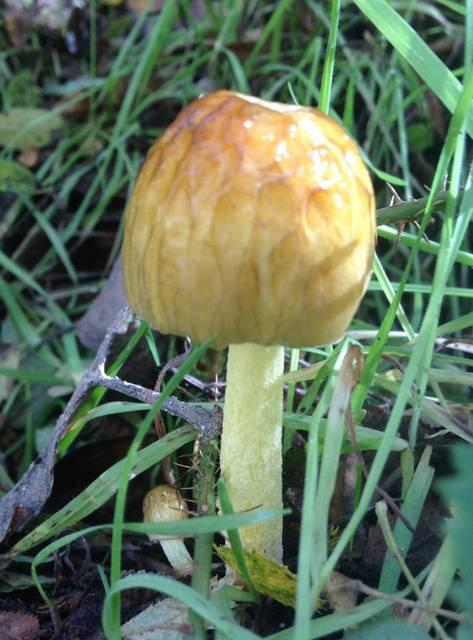edible_mushroom: (120, 87, 377, 568)
